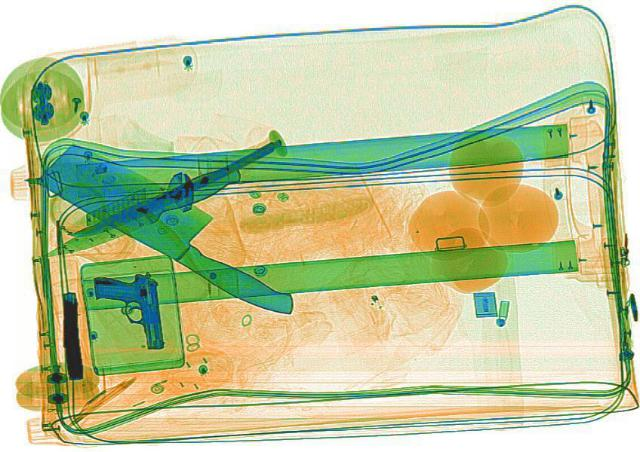Gun: (90, 269, 166, 350), (59, 292, 81, 379)
Knife: (22, 138, 334, 320), (34, 158, 250, 264), (63, 140, 284, 242)
